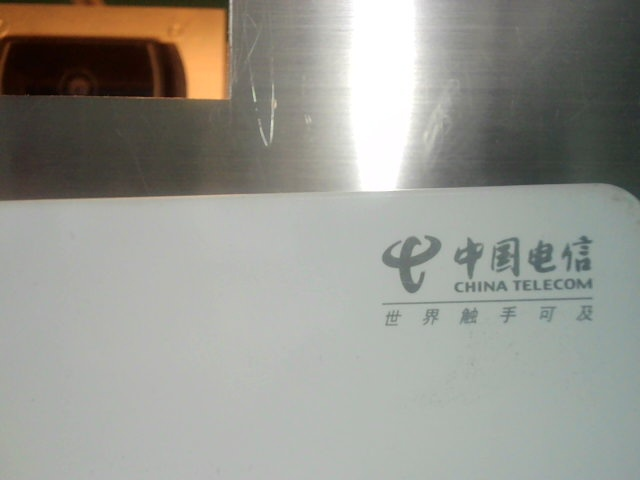AB_ChinaTelecom: (372, 229, 616, 335)
